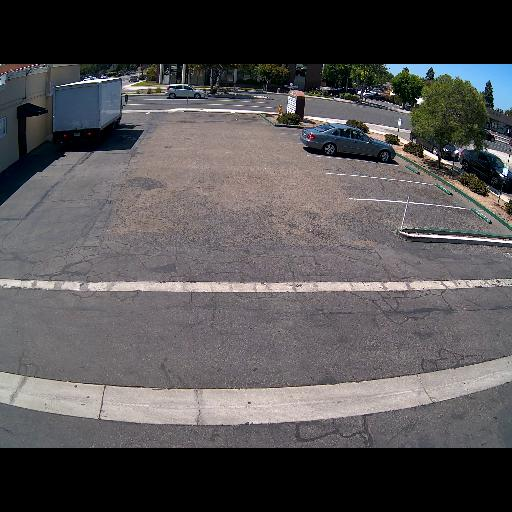car: (50, 76, 128, 144), (457, 147, 511, 191), (409, 123, 460, 162), (165, 84, 206, 99), (326, 86, 355, 99), (362, 92, 384, 102), (127, 75, 139, 84)
